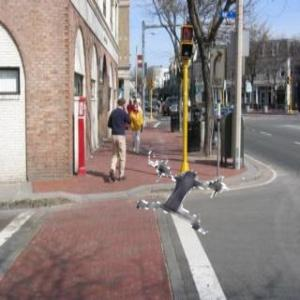drone: (129, 135, 238, 244)
